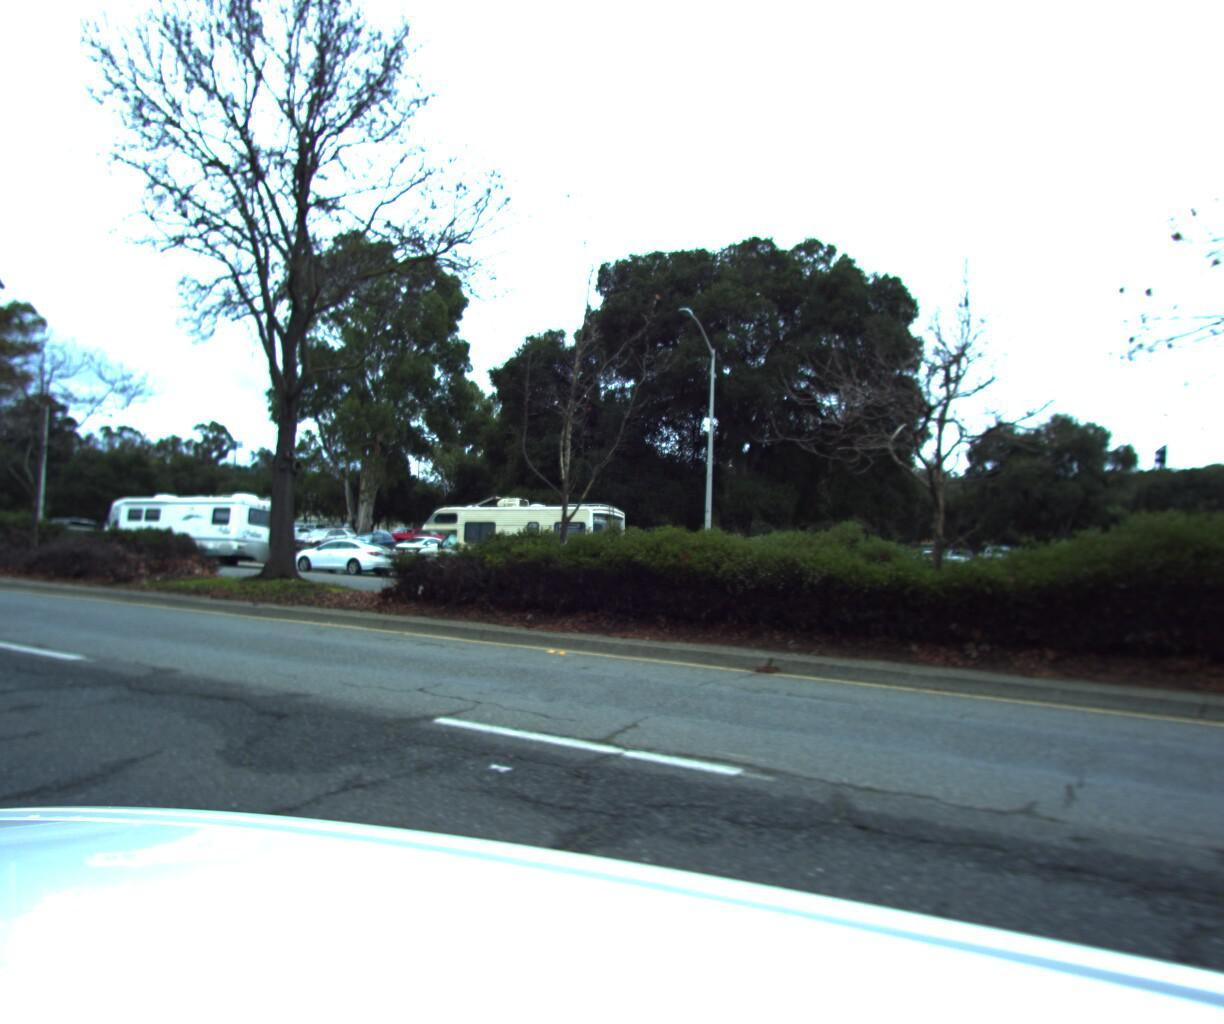car: (288, 530, 403, 574)
other_vehicle: (400, 489, 636, 586), (86, 485, 294, 569)
